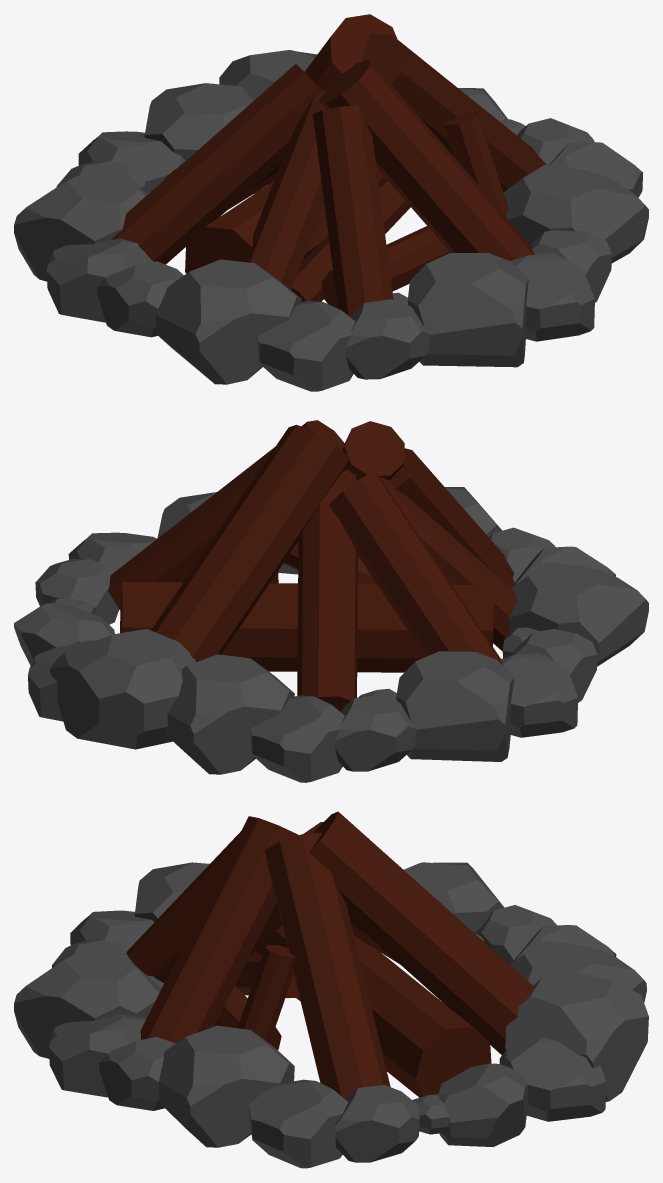
File: campfire.FBX
The picture shows the model from 3 angles, top to bottom: view 1: azimuth 30°, elevation 25°; view 2: azimuth 150°, elevation 25°; view 3: azimuth 270°, elevation 25°; orthographic projection. The views are drawn at different scales.
Parts seen in each view (by area): view 1: Campfire_01_mesh; view 2: Campfire_01_mesh; view 3: Campfire_01_mesh.
Boxes of the visible parts, x1,y1,x2,y2 form: Campfire_01_mesh: (14,14,648,391); Campfire_01_mesh: (14,420,648,782); Campfire_01_mesh: (14,811,648,1168).
Size of the model in its own units: 85.08 by 35.3 by 87.11.
